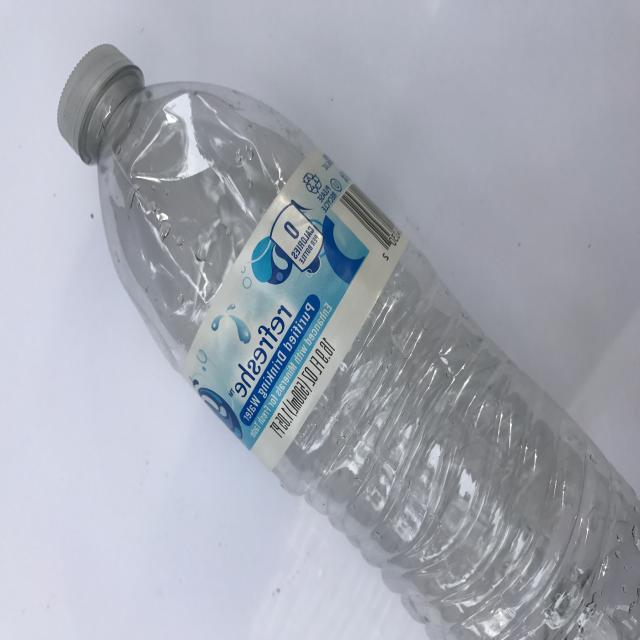plastic: (57, 41, 640, 640)
